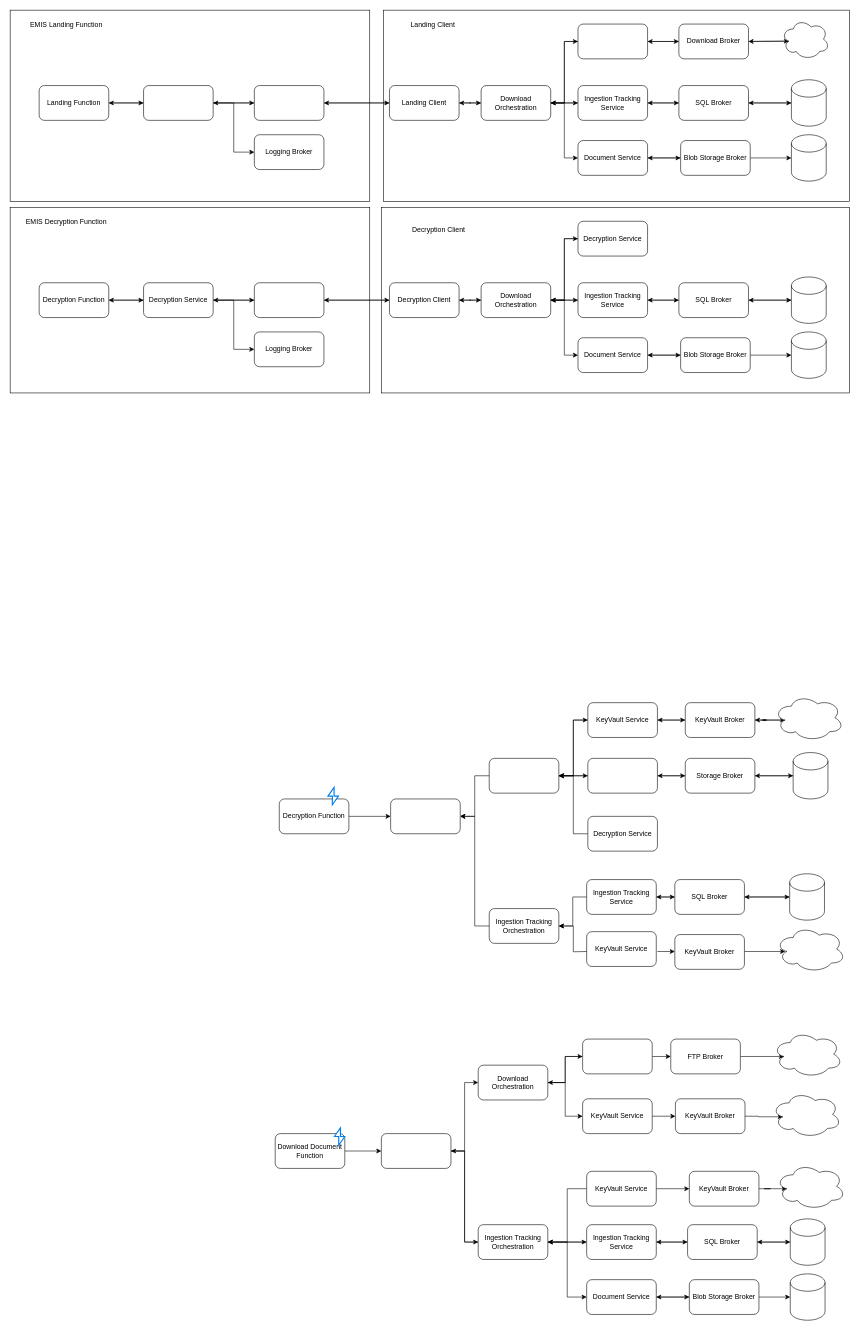
Image size: 860x1331. Some labels were removed from this diagram. The shapes that lost their labels are listed below. From the top down, each one's centre as x and y in pixels, then its label:
pixel 612 41: Download Service
pixel 178 102: Landing Service
pixel 289 102: Landing Broker
pixel 289 300: Decryption Broker
pixel 524 775: Decryption Orchestration
pixel 622 775: Storage Service
pixel 425 816: Decryption Coordination Service
pixel 617 1056: FTP Service
pixel 416 1150: Download Coordination Service
